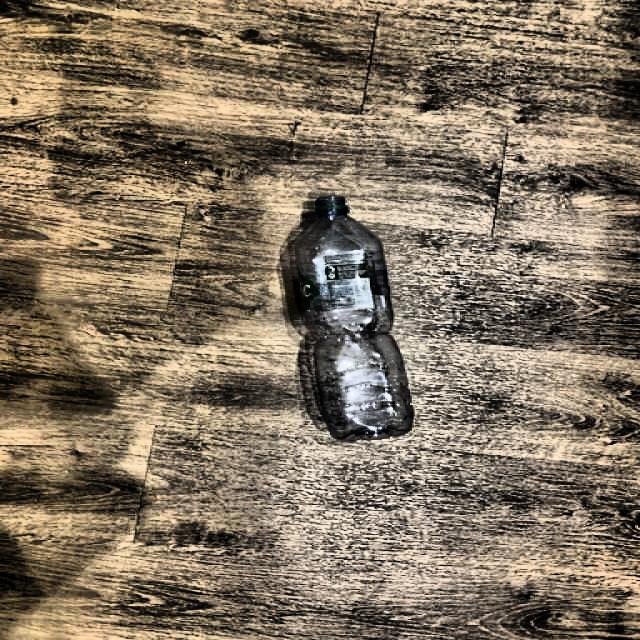plastic bottle: (286, 195, 414, 440)
